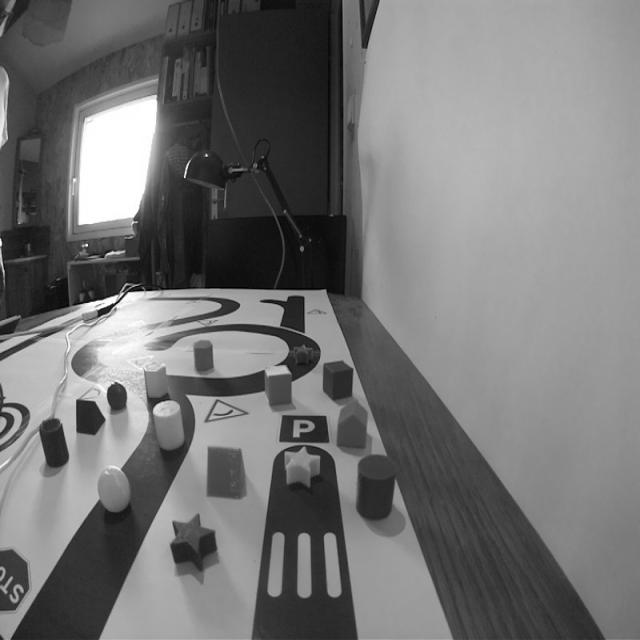Parking: (277, 411, 331, 445)
ball: (96, 462, 134, 518), (104, 378, 131, 413)
cube: (320, 358, 356, 404), (262, 362, 294, 408)
cylinder: (354, 450, 399, 525), (38, 416, 72, 474), (152, 398, 187, 454)
hexagon: (141, 359, 173, 400), (192, 337, 216, 376)
star: (166, 509, 221, 579), (281, 443, 324, 492), (290, 342, 316, 366)
triangle: (205, 444, 251, 503), (72, 393, 108, 441)
zebracross: (252, 520, 356, 603)
